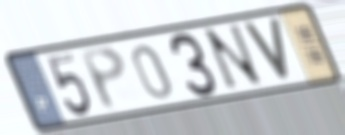0: (129, 42, 175, 101)
3: (166, 29, 218, 99)
5: (44, 50, 93, 117)
N: (200, 21, 268, 94)
P: (76, 44, 130, 113)
V: (239, 16, 294, 83)
